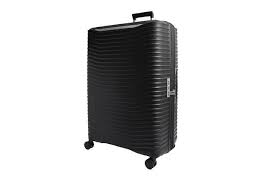suitcase: (82, 9, 180, 170)
